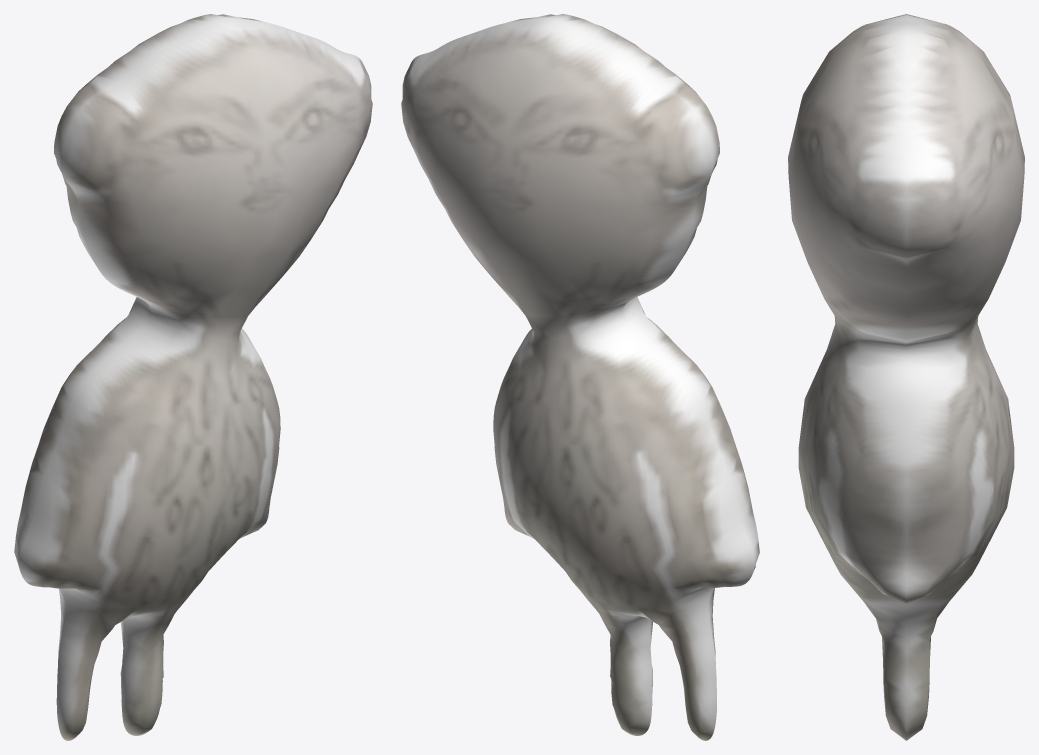
File: spirit.glb
3 renders of one model, left to right at view 1: azimuth 30°, elevation 25°; view 2: azimuth 150°, elevation 25°; view 3: azimuth 270°, elevation 25°, orthographic. The views are drawn at different scales.
Size of the model in its own units: 1.05 by 2.01 by 0.5769.
1 material, 1 textured.
